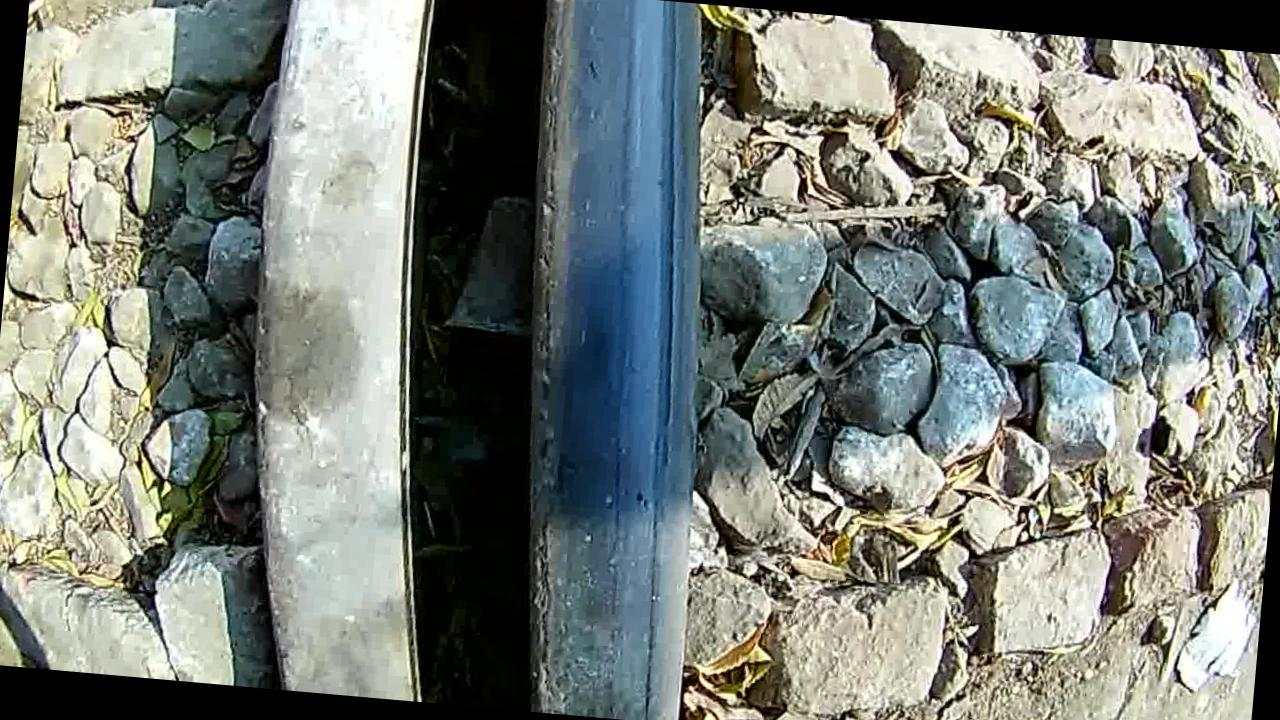clip_missing: (476, 0, 746, 720)
